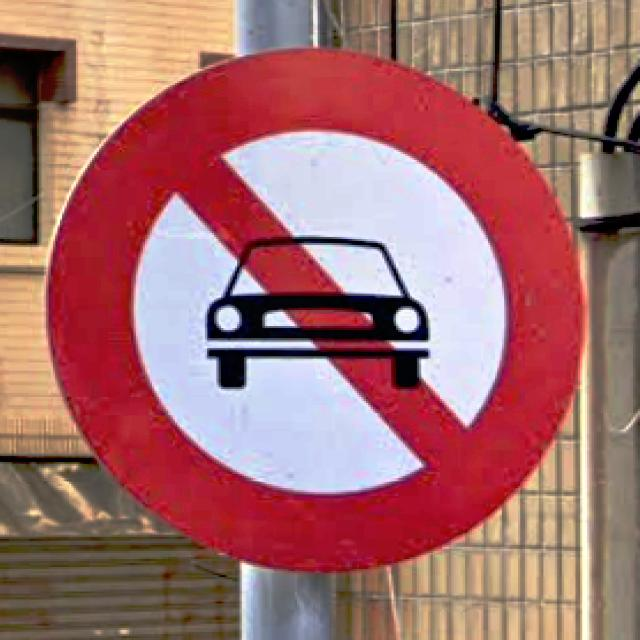nocar: (44, 49, 589, 579)
